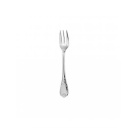fork: (56, 25, 81, 109)
